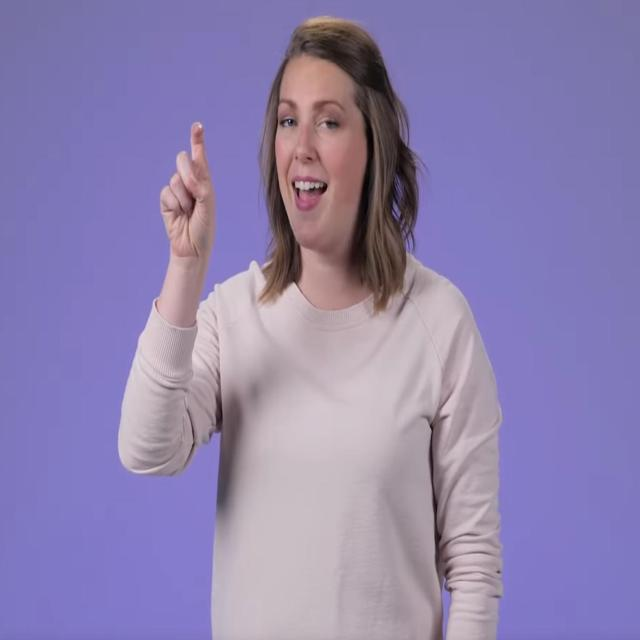X: (157, 116, 217, 258)
